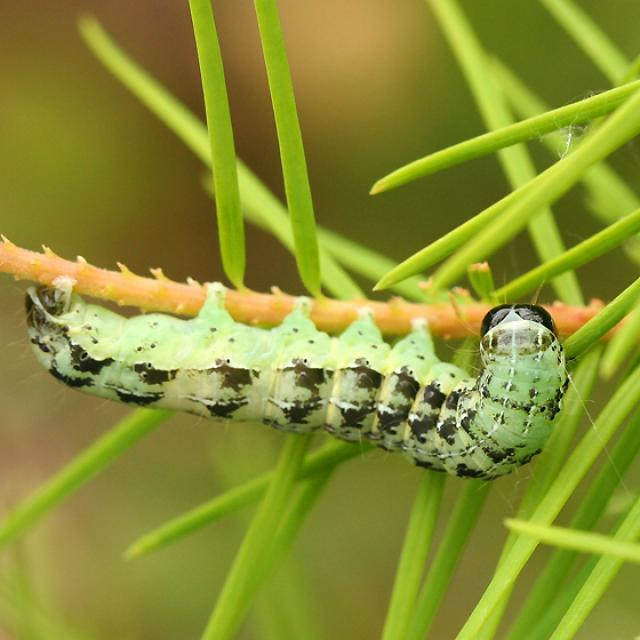caterpillar: (19, 251, 578, 499)
